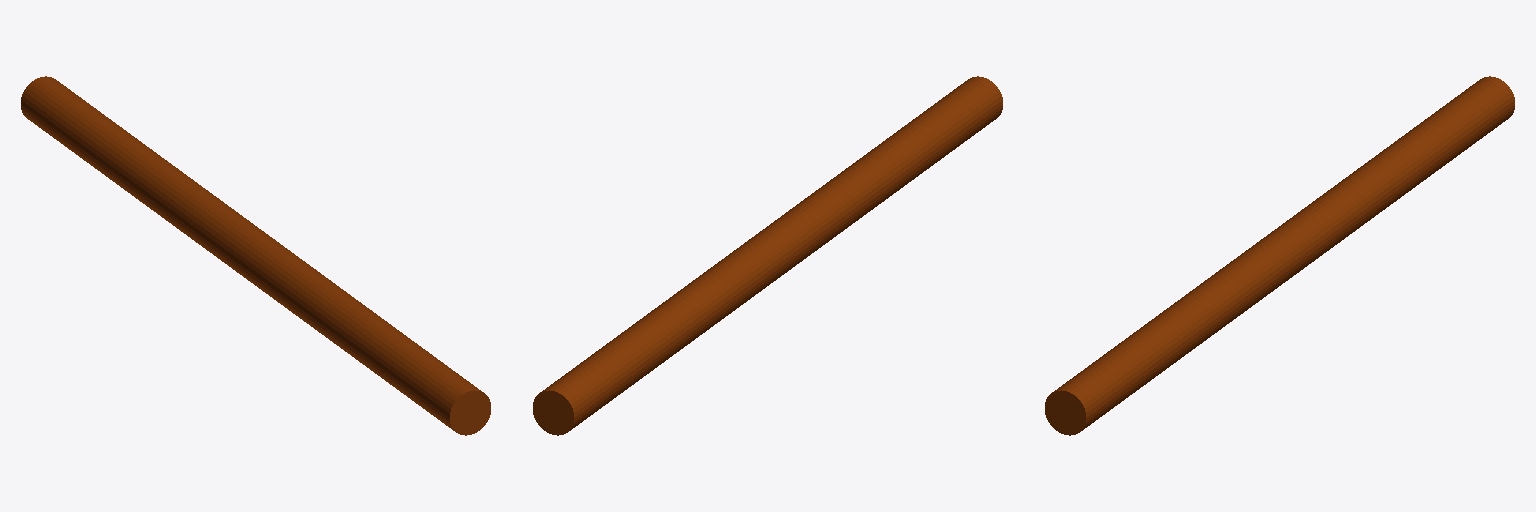
robot.urdf — cylinder:
<?xml version="1.0" ?>
<!-- =================================================================================== -->
<!-- |    This document was autogenerated by xacro from cylinder.xacro                 | -->
<!-- |    EDITING THIS FILE BY HAND IS NOT RECOMMENDED                                 | -->
<!-- =================================================================================== -->
<robot name="cylinder">
  <link name="world"/>
  <link name="base">
    <visual>
      <origin rpy="1.57079633 0 0" xyz="0 0 0"/>
      <geometry>
        <cylinder length="7.07106781185" radius="0.2"/>
      </geometry>
      <material name="cylinder_material">
        <color rgba="0.545 0.271 0.075 1.0"/>
        <texture filename="../textures/tree_bark.jpg"/>
      </material>
    </visual>
    <collision>
      <origin rpy="1.57079633 0 0" xyz="0 0 0"/>
      <geometry>
        <cylinder length="7.07106781185" radius="0.2"/>
      </geometry>
    </collision>
    <inertial>
      <origin rpy="0 0 0" xyz="0 0 0"/>
      <mass value="1"/>
      <inertia ixx="4.176666666648428" ixy="0.0" ixz="0.0" iyy="4.176666666648428" iyz="0.0" izz="24.999999999890573"/>
    </inertial>
  </link>
  <joint name="base_joint" type="fixed">
    <parent link="world"/>
    <child link="base"/>
    <origin rpy="0 0 0" xyz="0.0 0.0 0.0"/>
  </joint>
</robot>

--- Render facts (derived) ---
3 views of the same robot in one strip: view 1: azimuth 30°, elevation 25°; view 2: azimuth 150°, elevation 25°; view 3: azimuth 330°, elevation 25° (orthographic).
Robot: cylinder — 2 links, 1 joints (1 fixed); root link world; default pose: every joint at zero.
Visible links, largest first — view 1: base; view 2: base; view 3: base.
Link boxes in pixels (bbox=[...]): base: bbox=[21, 76, 490, 435]; base: bbox=[533, 76, 1002, 435]; base: bbox=[1045, 76, 1514, 435].
Size in the robot's own frame: 0.4 by 7.07 by 0.4 metres.
Geometry: primitives only (box / cylinder / sphere), no mesh files.
